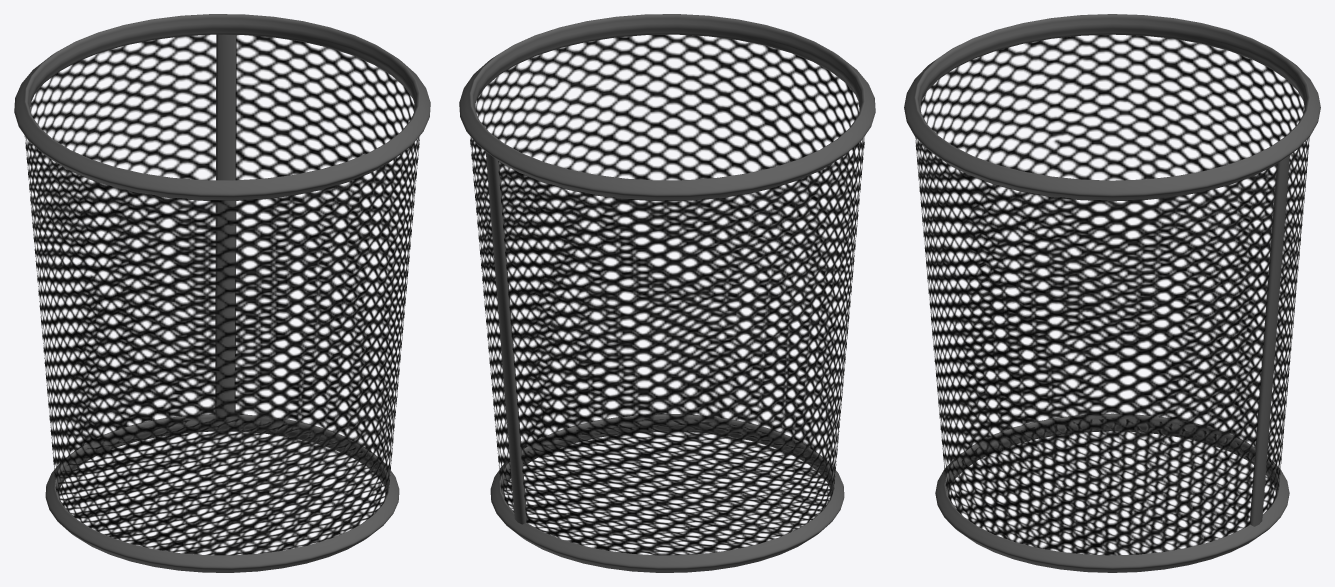
3 views of the same model, side by side, from view 1: azimuth 30°, elevation 25°; view 2: azimuth 150°, elevation 25°; view 3: azimuth 270°, elevation 25° (orthographic).
Parts seen in each view (by area): view 1: Office_Bin; view 2: Office_Bin; view 3: Office_Bin.
Boxes of the visible parts, left/top/right/bottom form: Office_Bin: left=14, top=14, right=430, bottom=572; Office_Bin: left=459, top=14, right=875, bottom=572; Office_Bin: left=904, top=14, right=1320, bottom=572.
Bounding box in the file's own units: 2.47 × 2.65 × 2.47.
Materials: 2 (1 with a texture image).
